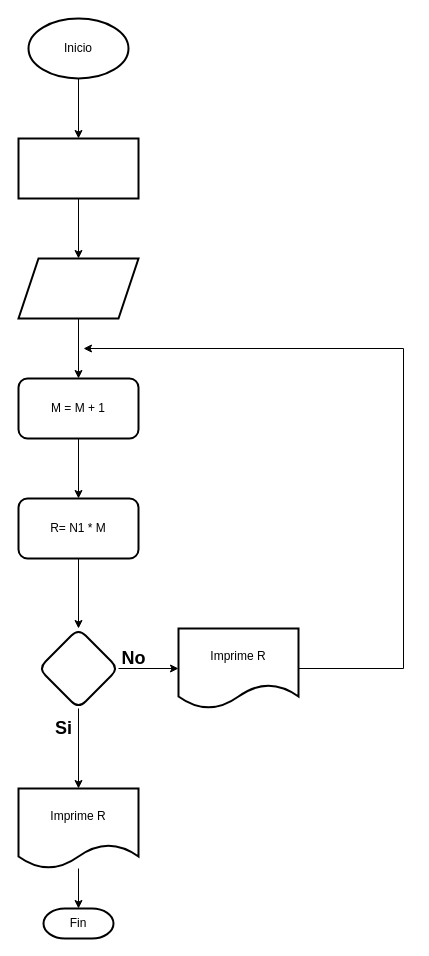
Some shapes in this 429 by 956 pixel diagram are drawn without their labels. The shapes that lost their labels are listed below. From the top down, each one's centre as x and y in pixels, then its label:
(x=78, y=168): N1, M, R
(x=78, y=288): Ingrese N1
(x=78, y=668): M = 10?
